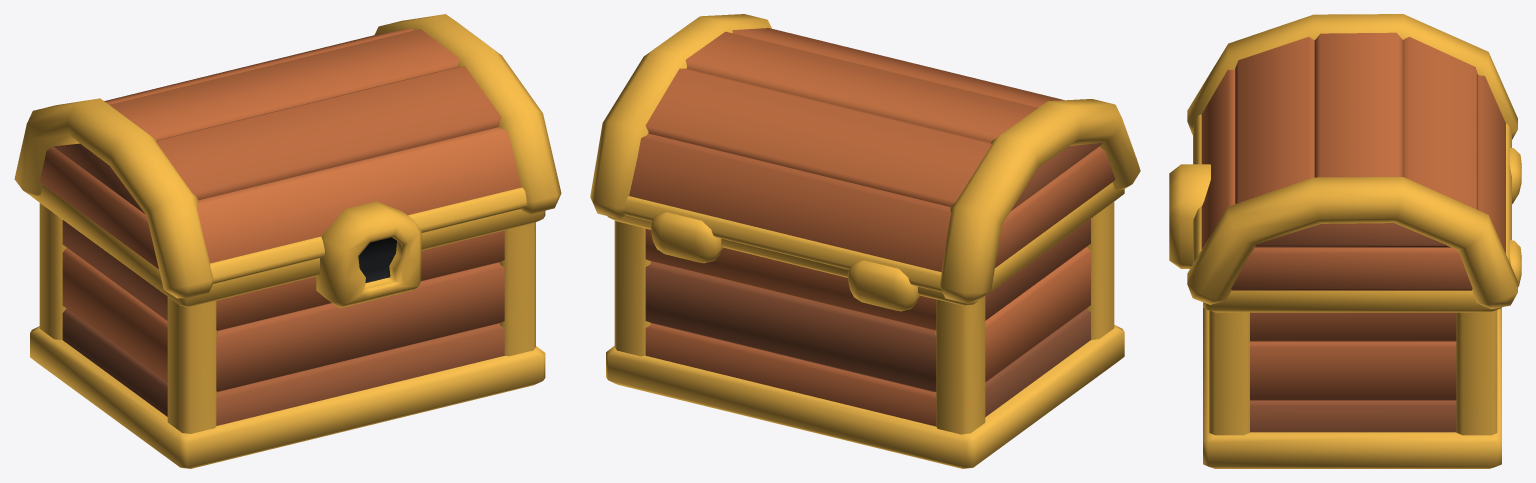
Rendered from chest_02.fbx.
3 renders of one model, left to right at view 1: azimuth 30°, elevation 25°; view 2: azimuth 150°, elevation 25°; view 3: azimuth 270°, elevation 25°, orthographic. The views are drawn at different scales.
Parts seen in each view (by area): view 1: chest_02_lid, chest_02; view 2: chest_02_lid, chest_02; view 3: chest_02_lid, chest_02.
Part boxes in pixels (x1=…): chest_02_lid: x1=14, y1=14, x2=561, y2=308; chest_02: x1=30, y1=185, x2=545, y2=468; chest_02_lid: x1=590, y1=14, x2=1140, y2=303; chest_02: x1=606, y1=182, x2=1124, y2=468; chest_02_lid: x1=1169, y1=14, x2=1517, y2=309; chest_02: x1=1203, y1=147, x2=1521, y2=468.
Bounding box in the file's own units: 0.9206 × 0.6612 × 0.7439.
Materials: 1 (1 with a texture image).
